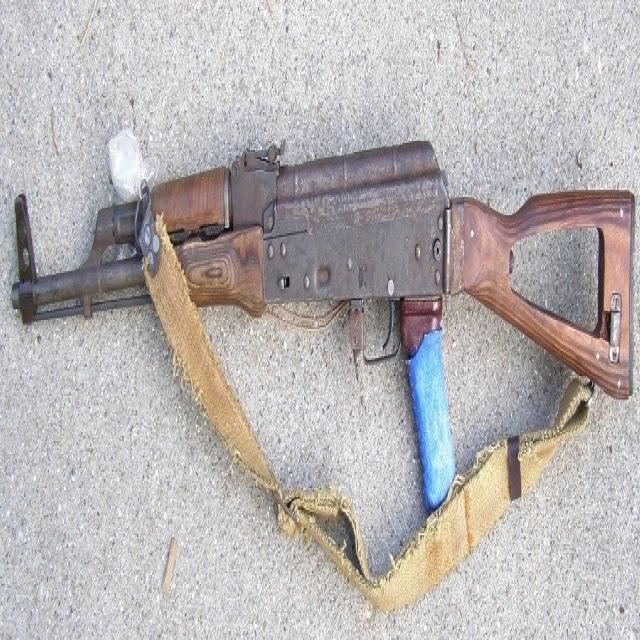ak: (9, 115, 640, 548)
